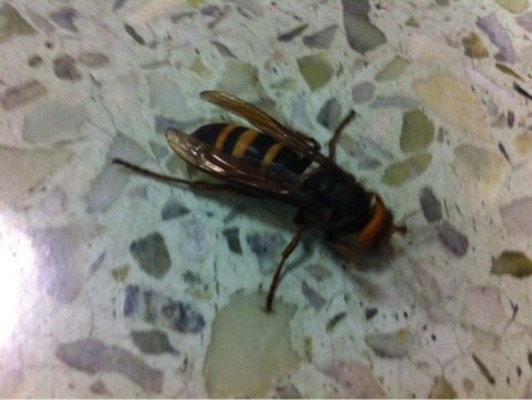asian_giant_hornet: (165, 89, 411, 261)
